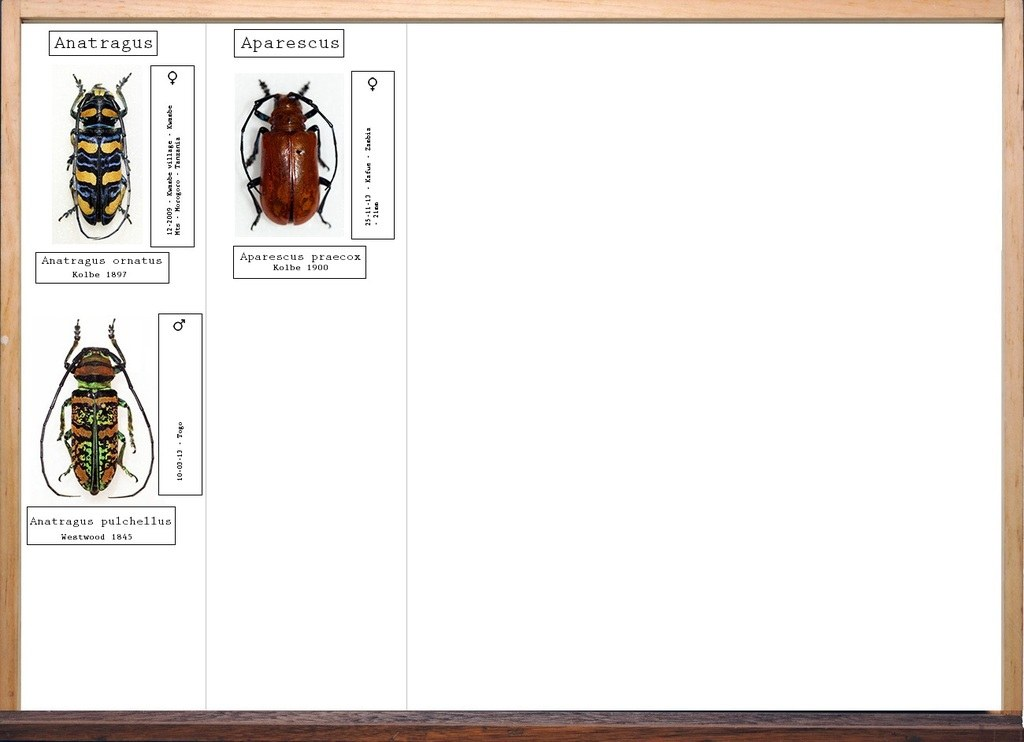insect: (39, 325, 151, 495), (55, 75, 135, 237), (247, 80, 329, 228)
